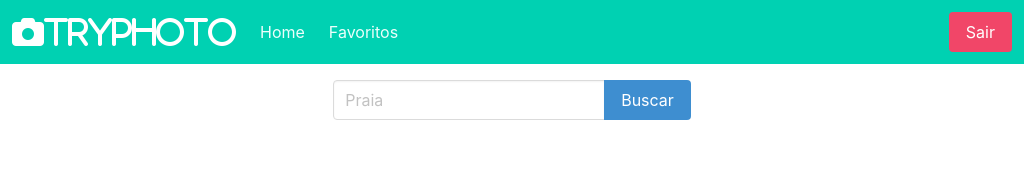
Test case: Ao entrar na home da aplicação › O clicar em Buscar sem digitar o termo, uma mensagem de erro deve aparecer
This screenshot has width=1024, height=169.
What coordinates should you click on to do the following:
click the button "Buscar"
I would click on:
 (648, 100)
Its box is [604,80,691,120].
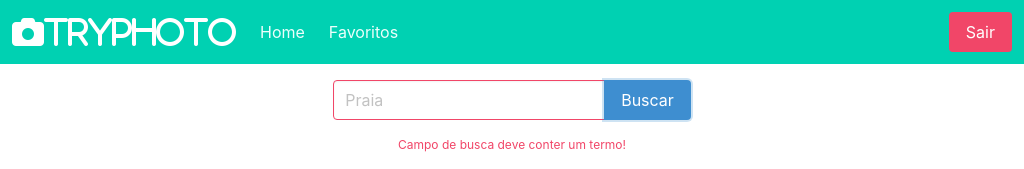
Expected: the text "Campo de busca deve conter um termo!" is shown, [398,137,626,152]
